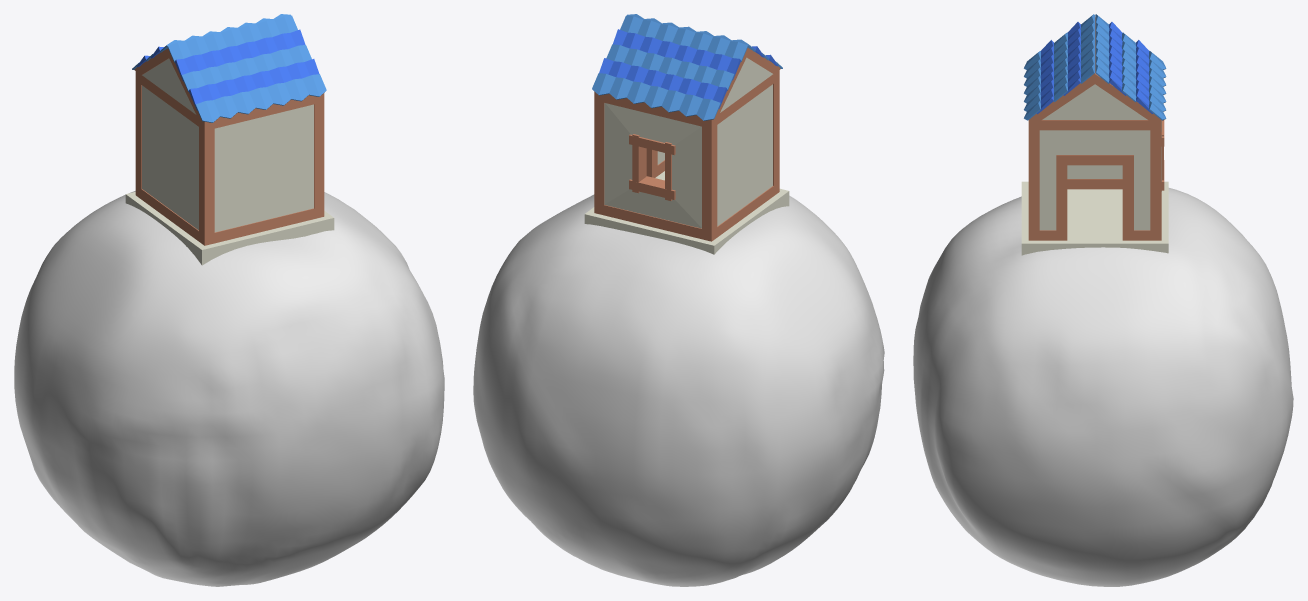
File: home.glb
3 renders of one model, left to right at view 1: azimuth 30°, elevation 25°; view 2: azimuth 150°, elevation 25°; view 3: azimuth 270°, elevation 25°, orthographic. The views are drawn at different scales.
Parts seen in each view (by area): view 1: HomePlanet-col, Wall.001-col, Roof.001, Wall-col, Floor-col, DoorWall-col; view 2: HomePlanet-col, WindowWall-col, Roof.001, Wall-col, Floor-col, Wall.001-col; view 3: HomePlanet-col, Roof.001, DoorWall-col, Floor-col, WindowWall-col, Wall-col.
Boxes of the visible parts, bbox=[...] form: HomePlanet-col: bbox=[14, 191, 444, 586]; Wall.001-col: bbox=[199, 95, 314, 245]; Roof.001: bbox=[132, 14, 326, 122]; Wall-col: bbox=[135, 71, 198, 241]; Floor-col: bbox=[125, 192, 334, 265]; DoorWall-col: bbox=[314, 93, 324, 218]; HomePlanet-col: bbox=[473, 194, 884, 586]; WindowWall-col: bbox=[594, 91, 701, 239]; Roof.001: bbox=[592, 14, 782, 120]; Wall-col: bbox=[702, 74, 773, 241]; Floor-col: bbox=[584, 171, 789, 254]; Wall.001-col: bbox=[773, 70, 779, 195]; HomePlanet-col: bbox=[913, 188, 1293, 586]; Roof.001: bbox=[1024, 14, 1166, 120]; DoorWall-col: bbox=[1028, 120, 1150, 240]; Floor-col: bbox=[1021, 181, 1168, 255]; WindowWall-col: bbox=[1150, 120, 1164, 240]; Wall-col: bbox=[1067, 165, 1122, 189].
Size of the model in its own units: 20.95 by 30.21 by 19.9.
